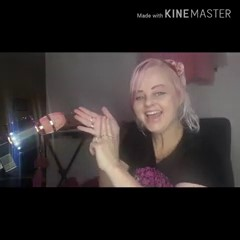N: (71, 101, 122, 172)
